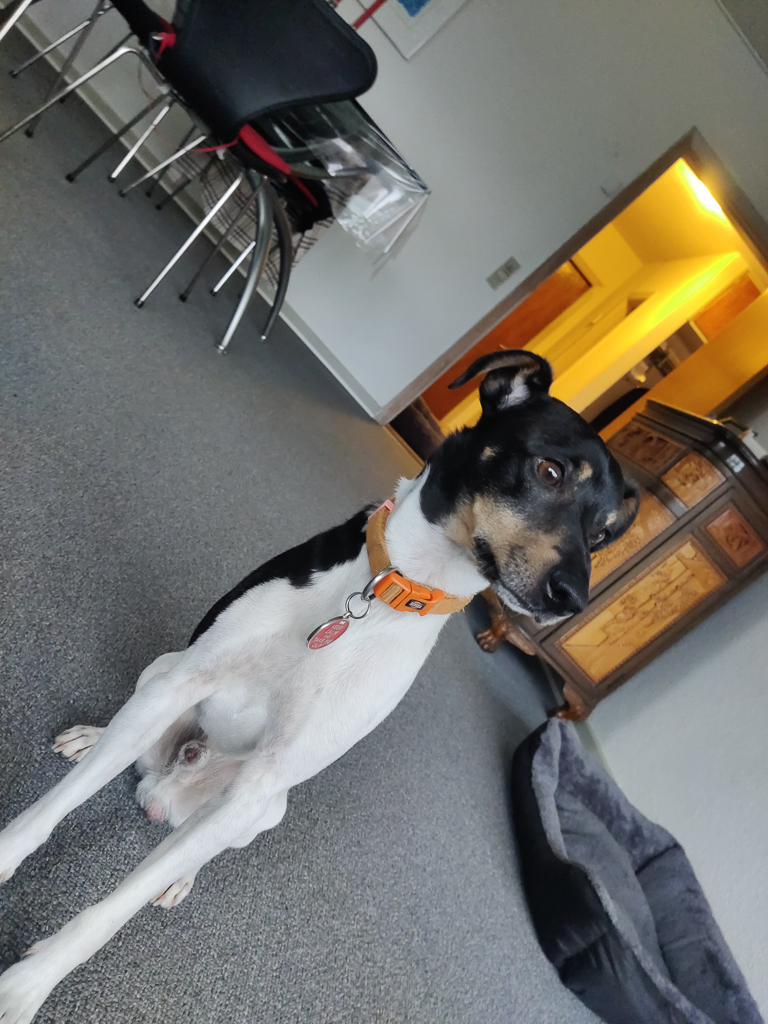Dog: (0, 326, 672, 1024)
